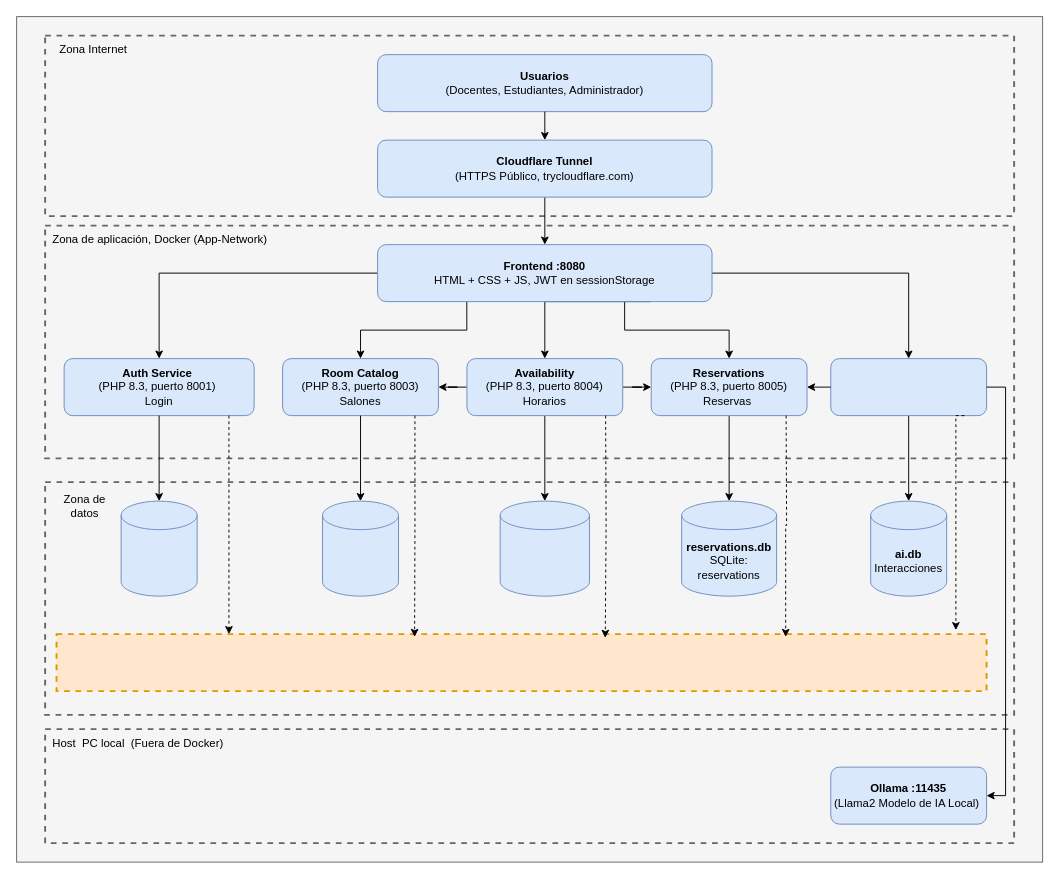
Some shapes in this 1059 by 879 pixel diagram are drawn without their labels. Here are the shapes that lost their labels. From the top down, the centre of each, then its label:
point (908, 387): AI services (PHP 8.3, puerto 8006) IA
point (158, 548): Auth.db SQLite: Users
point (360, 548): catalog.db SQLite: rooms
point (544, 548): Availability.db SQLite: cache
point (521, 662): JWT_SECRET compartido - Auth firma, los demás verifican
